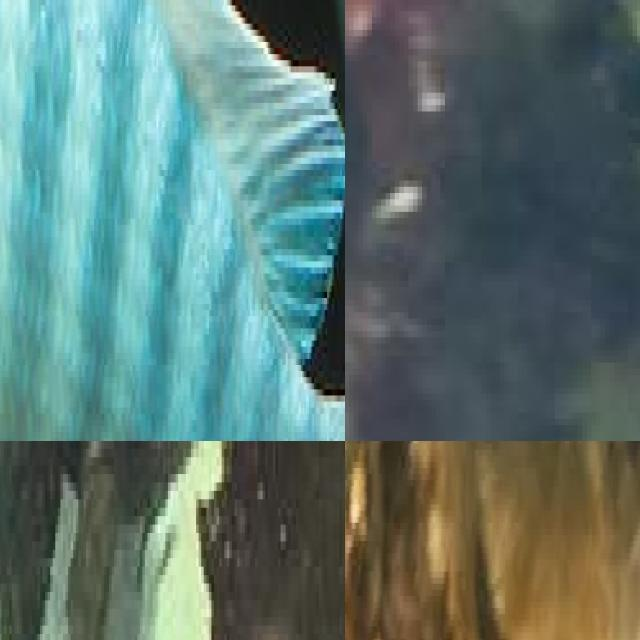fish: (0, 0, 345, 441), (345, 441, 640, 640)
